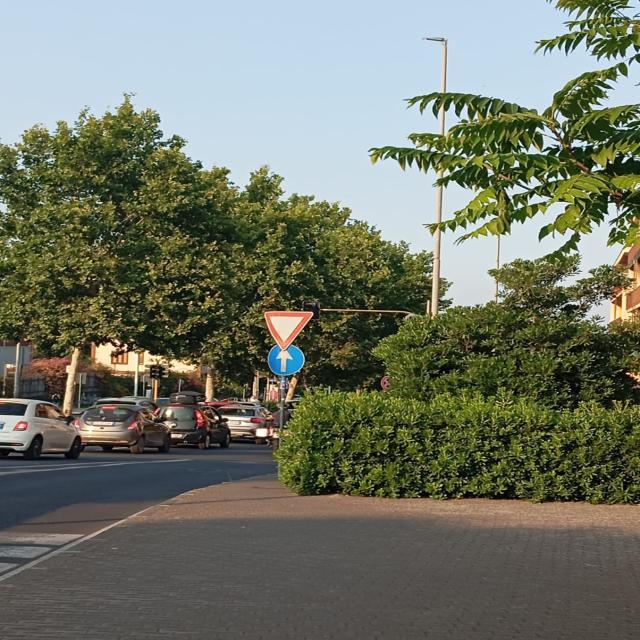prio_give_way: (264, 311, 314, 351)
